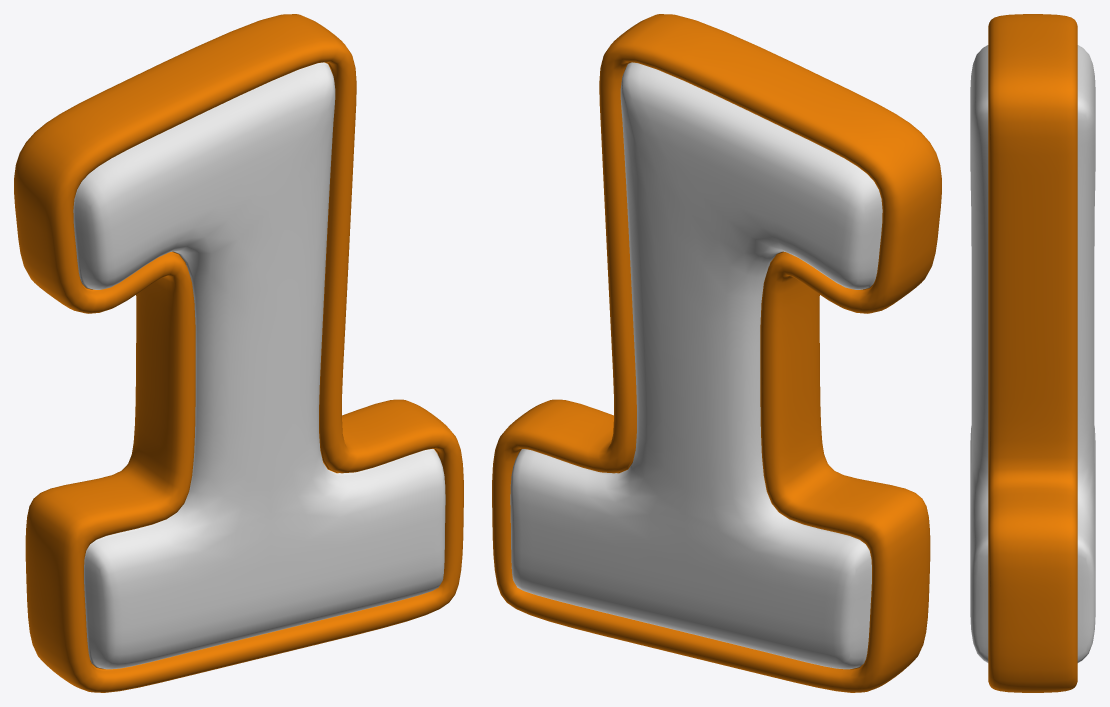
The model's file is number 1.fbx.
3 renders of one model, left to right at view 1: azimuth 30°, elevation 25°; view 2: azimuth 150°, elevation 25°; view 3: azimuth 270°, elevation 25°, orthographic. The views are drawn at different scales.
Parts seen in each view (by area): view 1: num1; view 2: num1; view 3: num1.
Part boxes in pixels (x1,y1,x2,y2): num1: (14, 14, 463, 692); num1: (492, 14, 941, 692); num1: (970, 14, 1095, 692).
Size of the model in its own units: 216 by 300 by 59.82.
